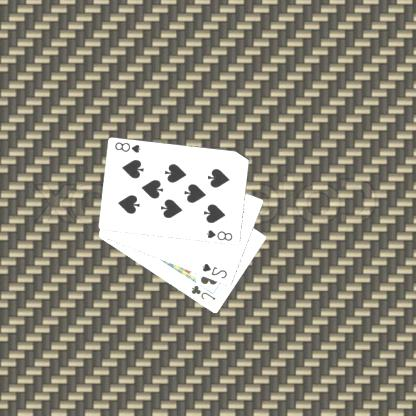2S: (201, 261, 231, 280)
8S: (206, 227, 235, 242), (114, 140, 144, 154)
JC: (190, 282, 218, 302)
